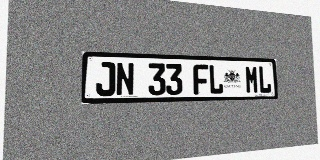3: (148, 63, 165, 95), (166, 63, 182, 95)
F: (193, 64, 209, 95)
J: (96, 62, 115, 96)
L: (208, 65, 223, 94), (258, 66, 271, 93)
M: (245, 65, 259, 94)
N: (116, 62, 134, 96)
